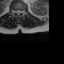CCS_normal: (17, 8, 19, 17)
LFS_normal: (21, 8, 23, 15)
LLS_normal: (19, 8, 21, 15)
RFS_normal: (13, 8, 15, 14)
RLS_normal: (15, 8, 17, 15)
